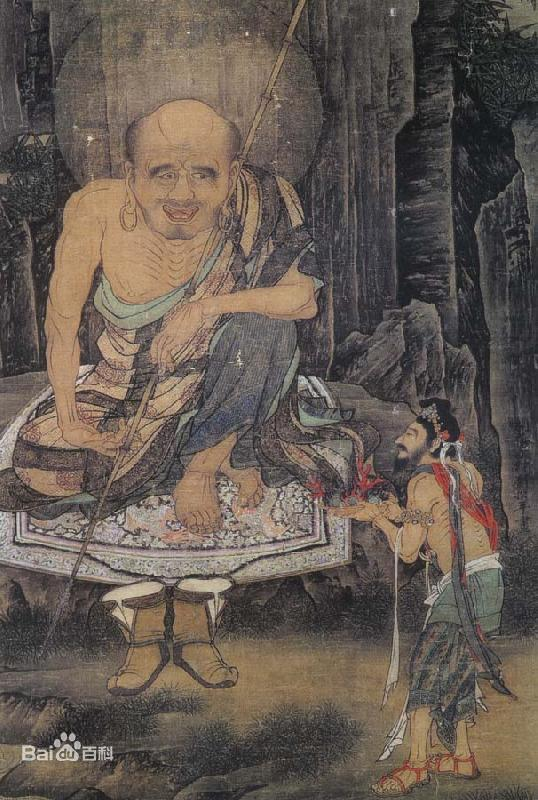man: (337, 394, 525, 800)
monk: (5, 6, 349, 531)
